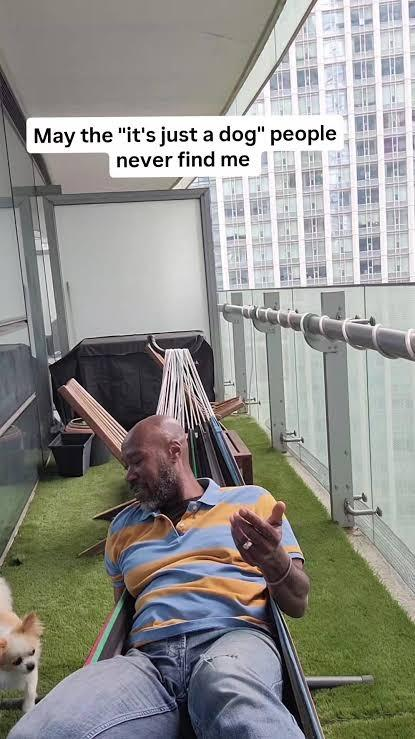adult_dog: (1, 576, 47, 715)
non-dog: (7, 414, 314, 739)
